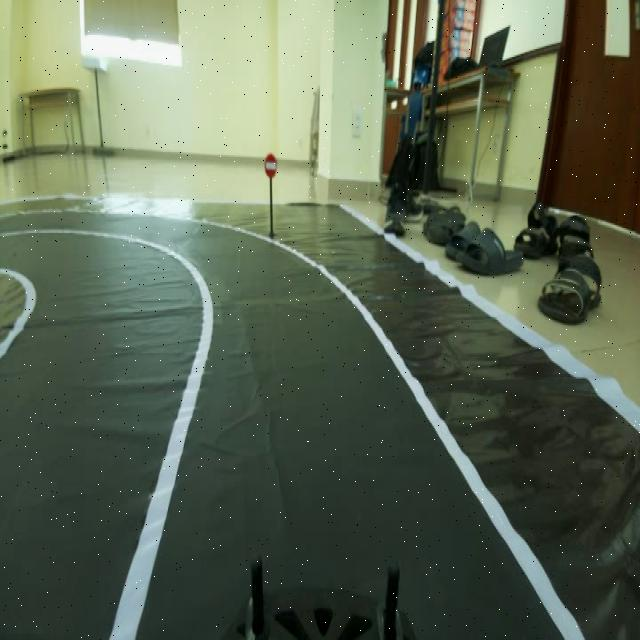no_entry: (260, 149, 281, 179)
